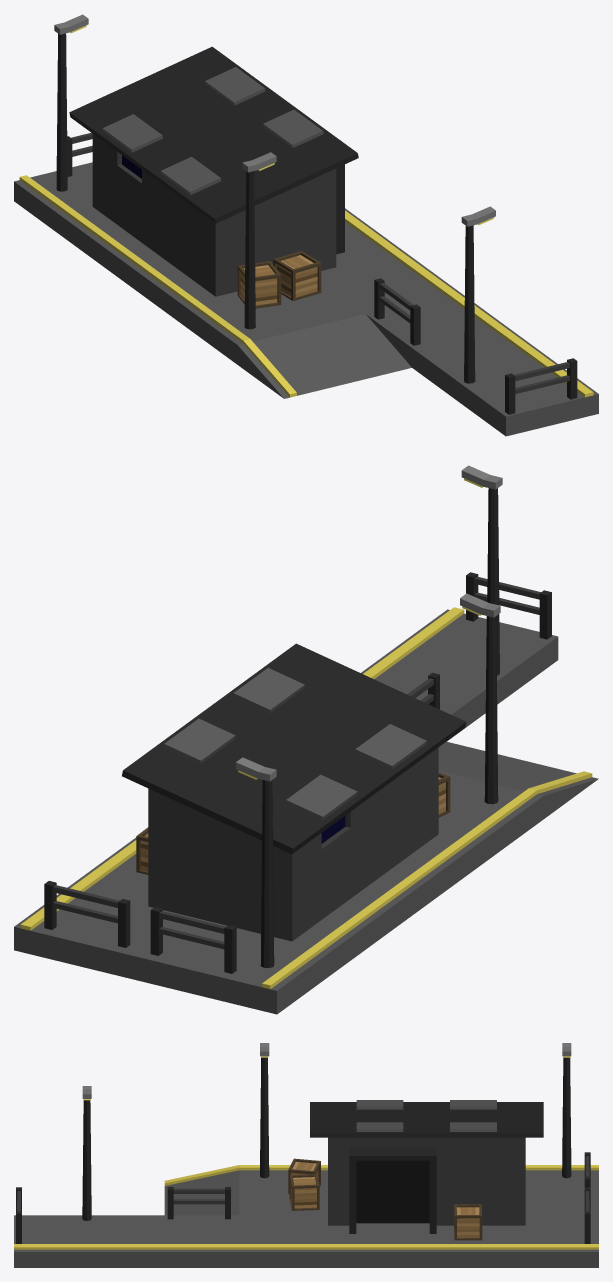
Rendered from station.fbx.
3 renders of one model, top to bottom at view 1: azimuth 30°, elevation 25°; view 2: azimuth 150°, elevation 25°; view 3: azimuth 270°, elevation 25°, orthographic. The views are drawn at different scales.
Parts seen in each view (by area): view 1: station; view 2: station; view 3: station.
Part boxes in pixels (bbox=[...]): station: bbox=[14, 14, 598, 436]; station: bbox=[14, 465, 598, 1014]; station: bbox=[14, 1043, 598, 1267].
Bounding box in the file's own units: 9.11 × 7.36 × 26.
Materials: 1 (1 with a texture image).
